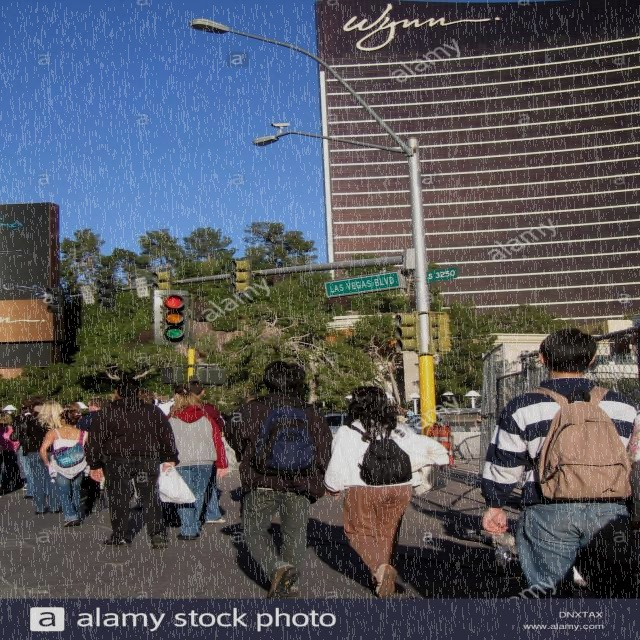pessoa: (478, 328, 639, 600), (222, 483, 520, 598), (222, 359, 334, 606), (322, 385, 417, 598), (82, 377, 180, 549), (165, 390, 230, 540), (39, 408, 92, 528), (27, 400, 66, 516), (75, 397, 113, 515), (128, 390, 168, 488), (9, 405, 42, 500), (183, 380, 227, 432), (23, 396, 122, 414), (0, 413, 21, 487), (158, 382, 188, 415), (626, 408, 640, 473), (396, 406, 408, 416), (406, 408, 414, 419), (246, 395, 257, 402), (473, 416, 482, 424)
